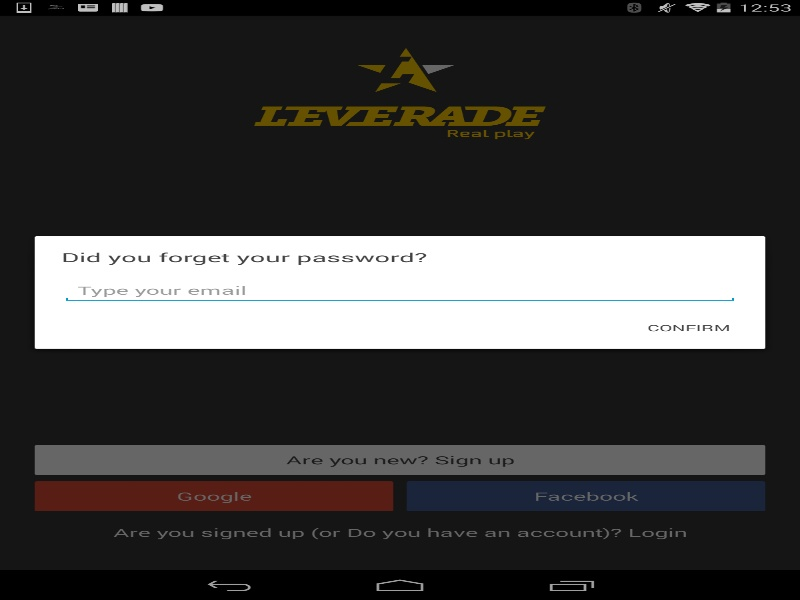Input: (61, 278, 738, 302)
